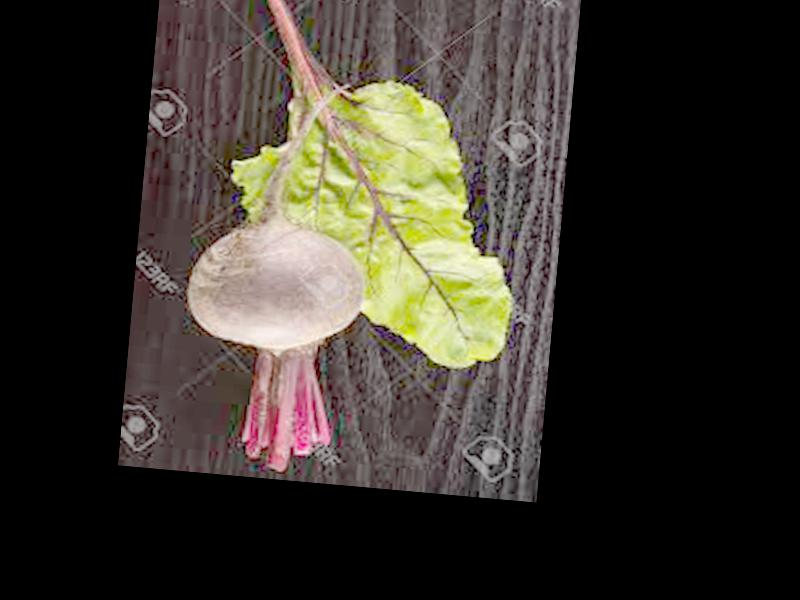Beet: (173, 72, 381, 477)
